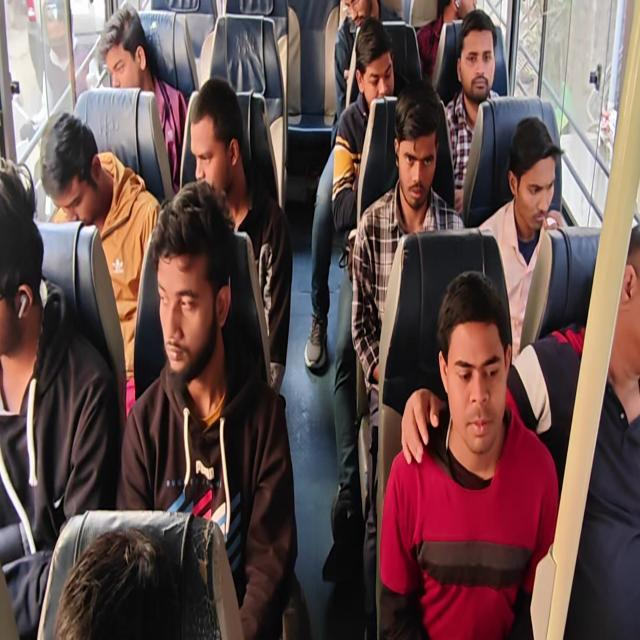person: (1, 1, 638, 638), (115, 179, 298, 638), (378, 269, 560, 638), (350, 79, 465, 636), (0, 156, 121, 638), (506, 222, 640, 638), (40, 111, 162, 419), (330, 15, 398, 549), (188, 76, 293, 396), (50, 512, 238, 639), (478, 116, 564, 362), (331, 17, 396, 280), (98, 3, 188, 191), (444, 9, 499, 213), (332, 0, 404, 146), (416, 0, 477, 84)
